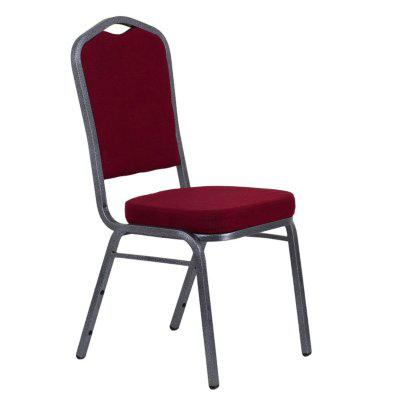chair: (56, 13, 321, 396)
